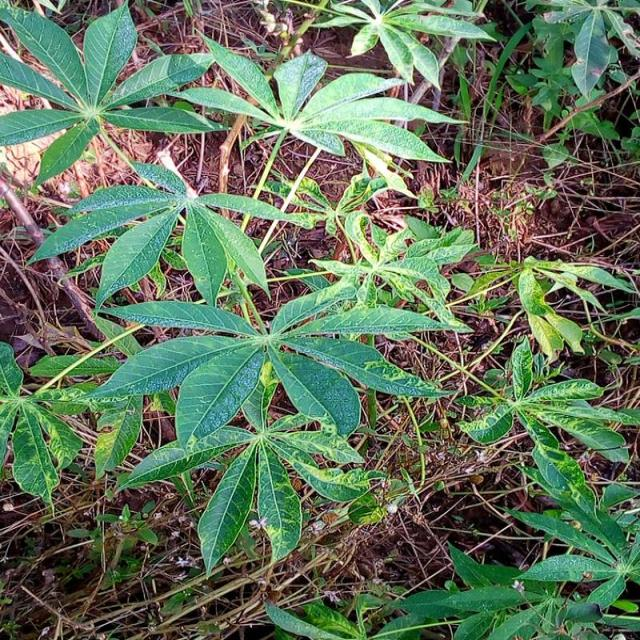cassava leaf: (2, 4, 480, 578)
